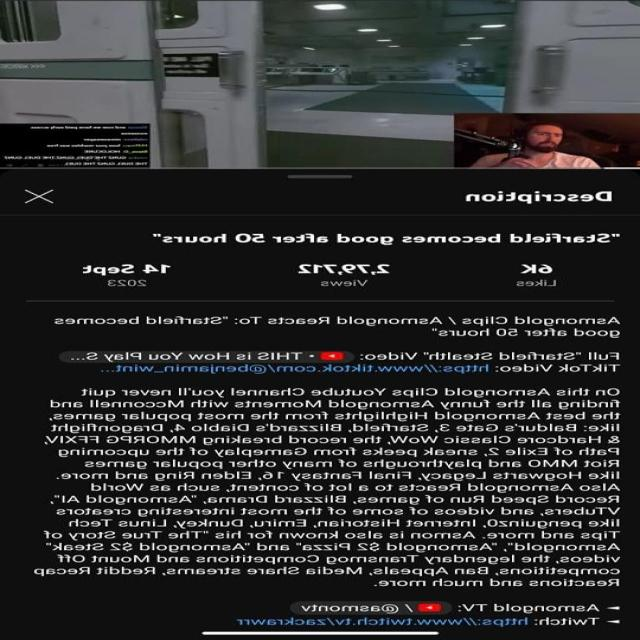Drawer: (20, 187, 58, 206), (282, 174, 354, 180)
EditText: (0, 0, 640, 168)
Icon: (95, 362, 491, 373), (232, 615, 528, 626)
Modal: (30, 387, 618, 576), (145, 230, 622, 247), (46, 315, 618, 327), (357, 347, 617, 364), (292, 260, 394, 288), (372, 577, 624, 588), (461, 188, 614, 206), (452, 600, 620, 614), (78, 264, 169, 288), (428, 328, 624, 337), (511, 258, 556, 292), (494, 364, 619, 376), (529, 616, 622, 627)
